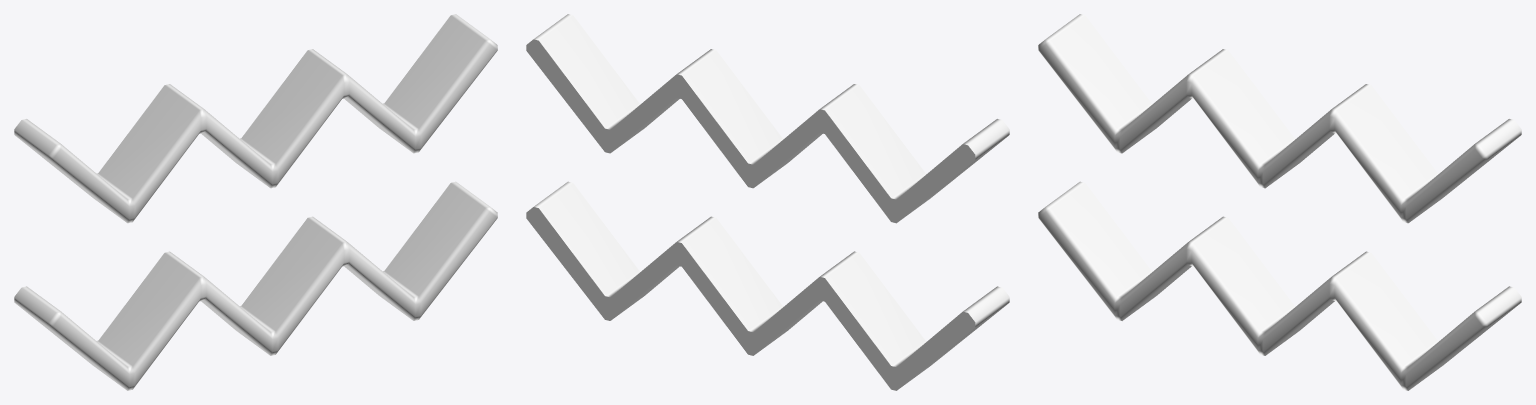
File: shelf_010.fbx
3 views of the same model, side by side, from view 1: azimuth 30°, elevation 25°; view 2: azimuth 150°, elevation 25°; view 3: azimuth 330°, elevation 25° (orthographic).
Visible parts, largest first — view 1: shelf_010; view 2: shelf_010; view 3: shelf_010.
Part boxes in pixels (x1,y1,x2,y2): shelf_010: (14,14,497,390); shelf_010: (526,14,1009,390); shelf_010: (1038,14,1521,390).
Bounding box in the file's own units: 173 × 24.5 × 97.01.
